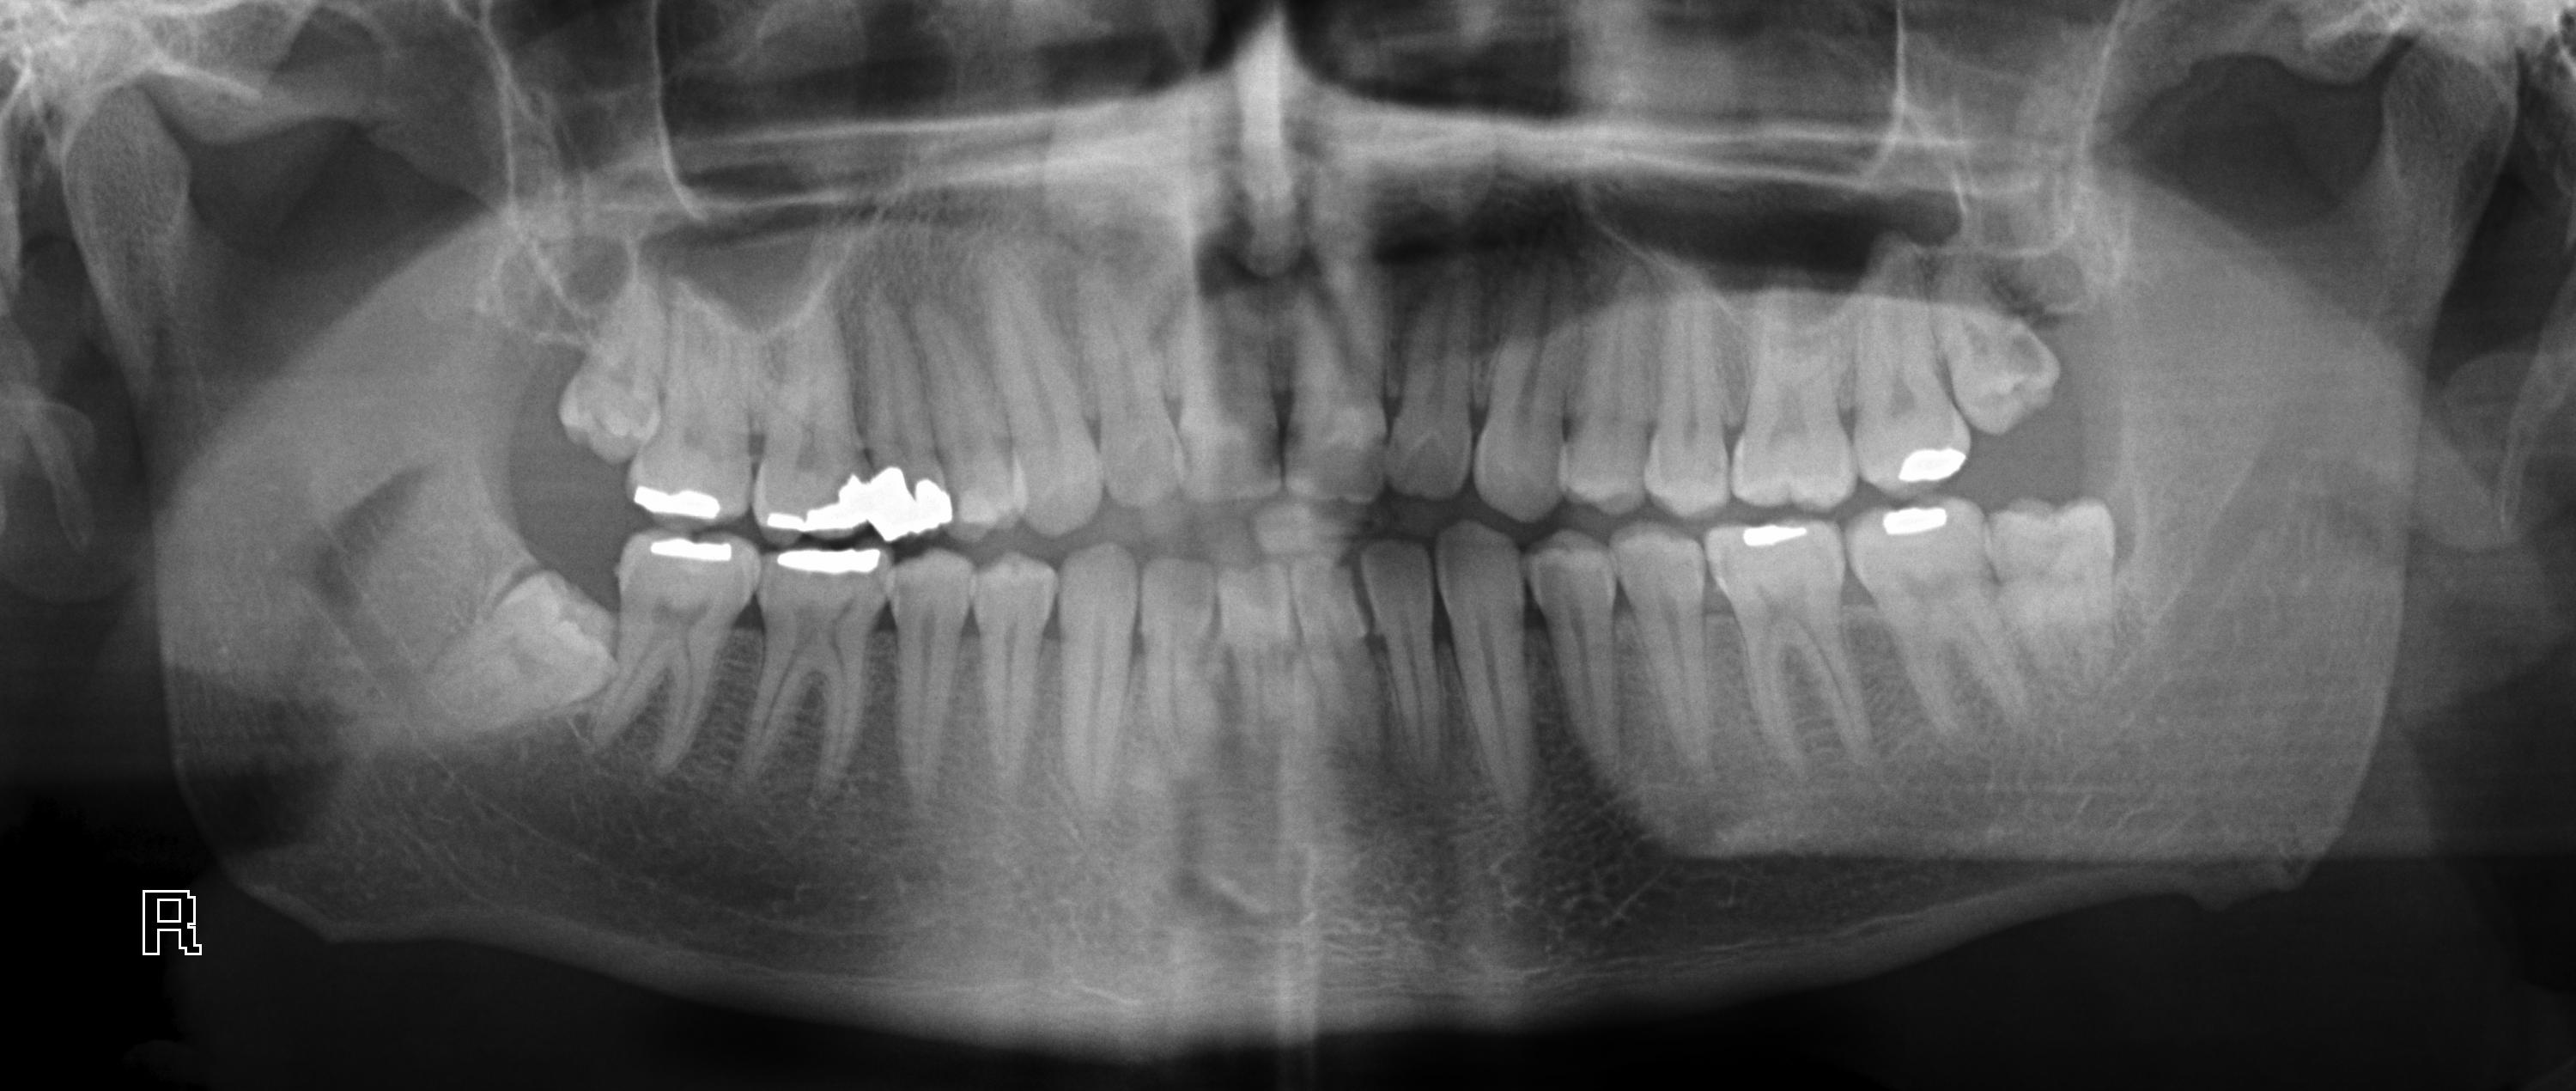Çürük: (764, 465, 885, 539), (639, 518, 741, 582), (621, 476, 739, 529), (882, 455, 956, 539), (772, 541, 887, 592), (1886, 429, 1980, 490), (1868, 491, 1970, 541), (1727, 518, 1827, 557)
